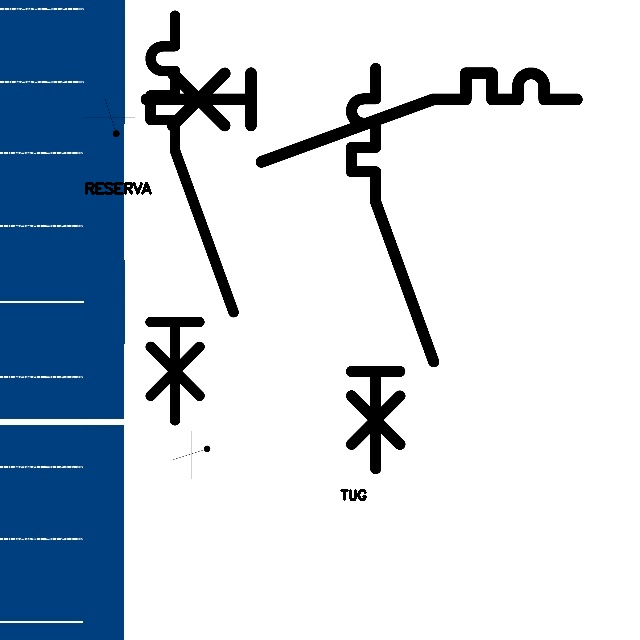interruptor_termomagnetico: (135, 62, 588, 173), (140, 5, 244, 430), (341, 58, 444, 479)
